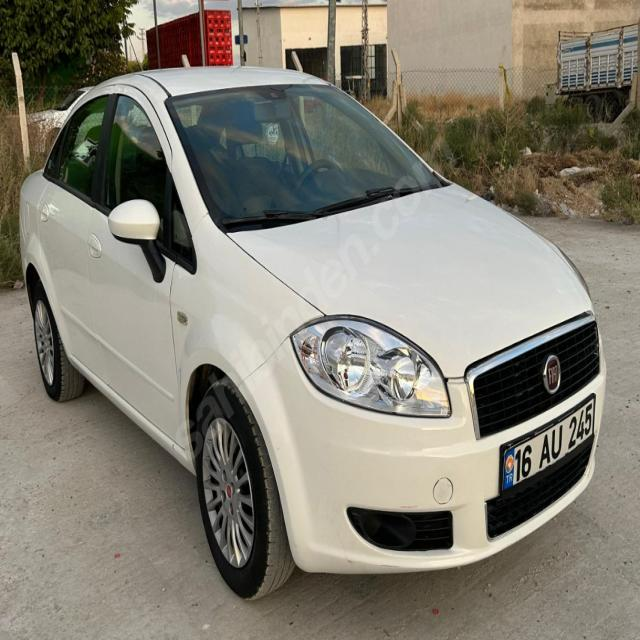fiat: (535, 351, 571, 396)
